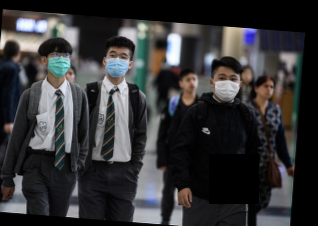with_mask: (212, 72, 240, 103), (45, 49, 72, 78), (105, 49, 130, 79)
without_mask: (258, 81, 274, 99), (182, 76, 199, 92)
